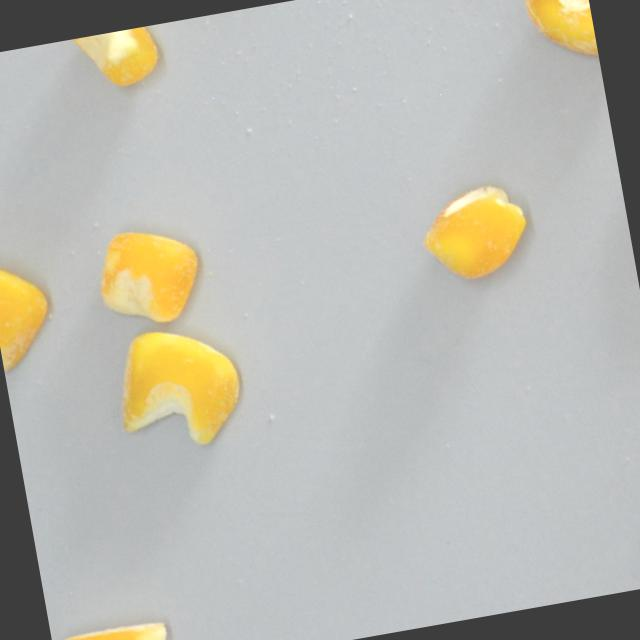no_canjicado: (90, 220, 209, 334), (414, 178, 533, 286), (68, 24, 163, 93), (51, 616, 172, 640)
pelicula: (105, 317, 249, 458), (0, 247, 59, 373), (523, 0, 599, 69)
